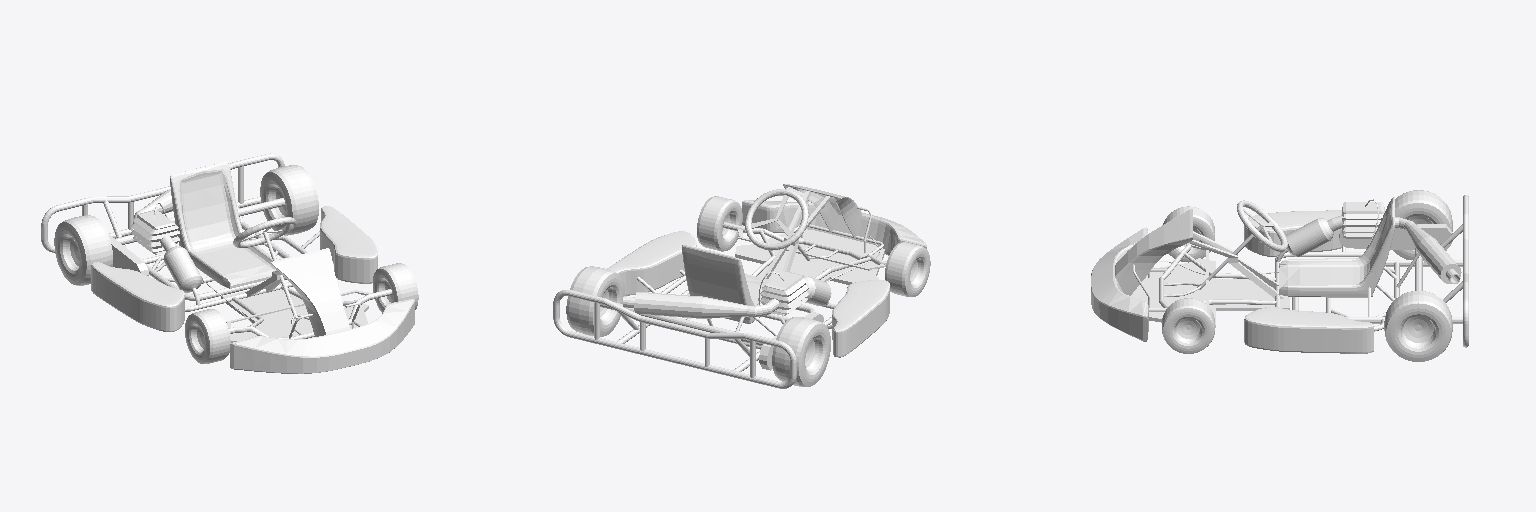
File: go_kart.obj
3 views of the same model, side by side, from view 1: azimuth 30°, elevation 25°; view 2: azimuth 150°, elevation 25°; view 3: azimuth 270°, elevation 25° (orthographic).
Parts seen in each view (by area): view 1: obj1, obj2, obj3, obj6, obj5, obj4; view 2: obj1, obj3, obj2, obj5, obj6, obj4; view 3: obj1, obj3, obj2, obj5, obj6, obj4.
Boxes of the visible parts, box(x1,y1,x2,y2) form: obj1: box(82, 161, 392, 342); obj2: box(146, 222, 414, 373); obj3: box(41, 153, 377, 339); obj6: box(54, 165, 318, 285); obj5: box(60, 184, 418, 363); obj4: box(233, 217, 296, 247); obj1: box(594, 184, 886, 377); obj3: box(553, 201, 889, 388); obj2: box(617, 191, 926, 371); obj5: box(600, 196, 930, 374); obj6: box(566, 266, 830, 386); obj4: box(745, 189, 808, 250); obj1: box(1115, 197, 1462, 330); obj3: box(1133, 195, 1468, 353); obj2: box(1091, 209, 1462, 341); obj5: box(1162, 206, 1438, 353); obj6: box(1384, 190, 1452, 361); obj4: box(1237, 200, 1287, 251).
Size of the model in its own units: 125 by 50.48 by 168.